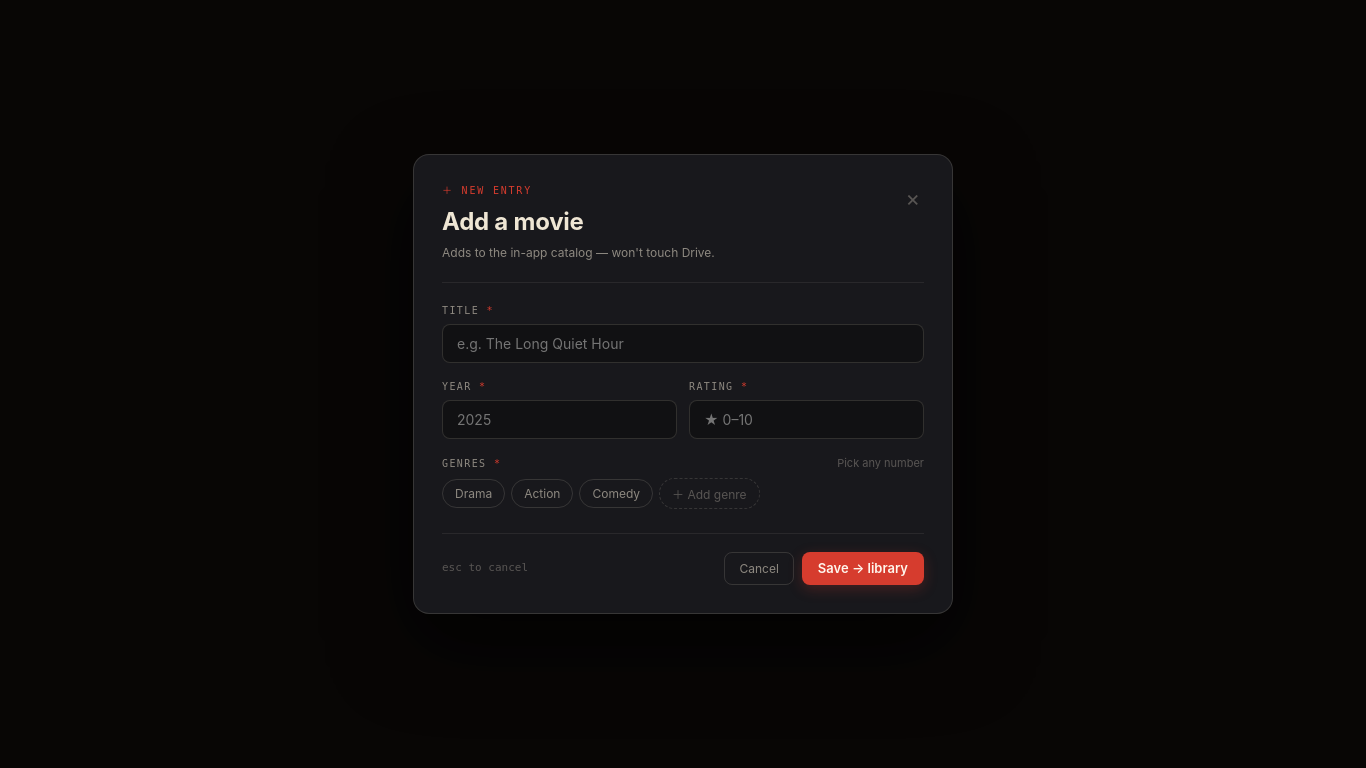
Test: AddMovieModal › clears validation errors when the modal is closed and reopened
The width and height of the screenshot is (1366, 768).
Step 1. Click the button "Save → library" → (863, 568), box [802, 552, 924, 585]
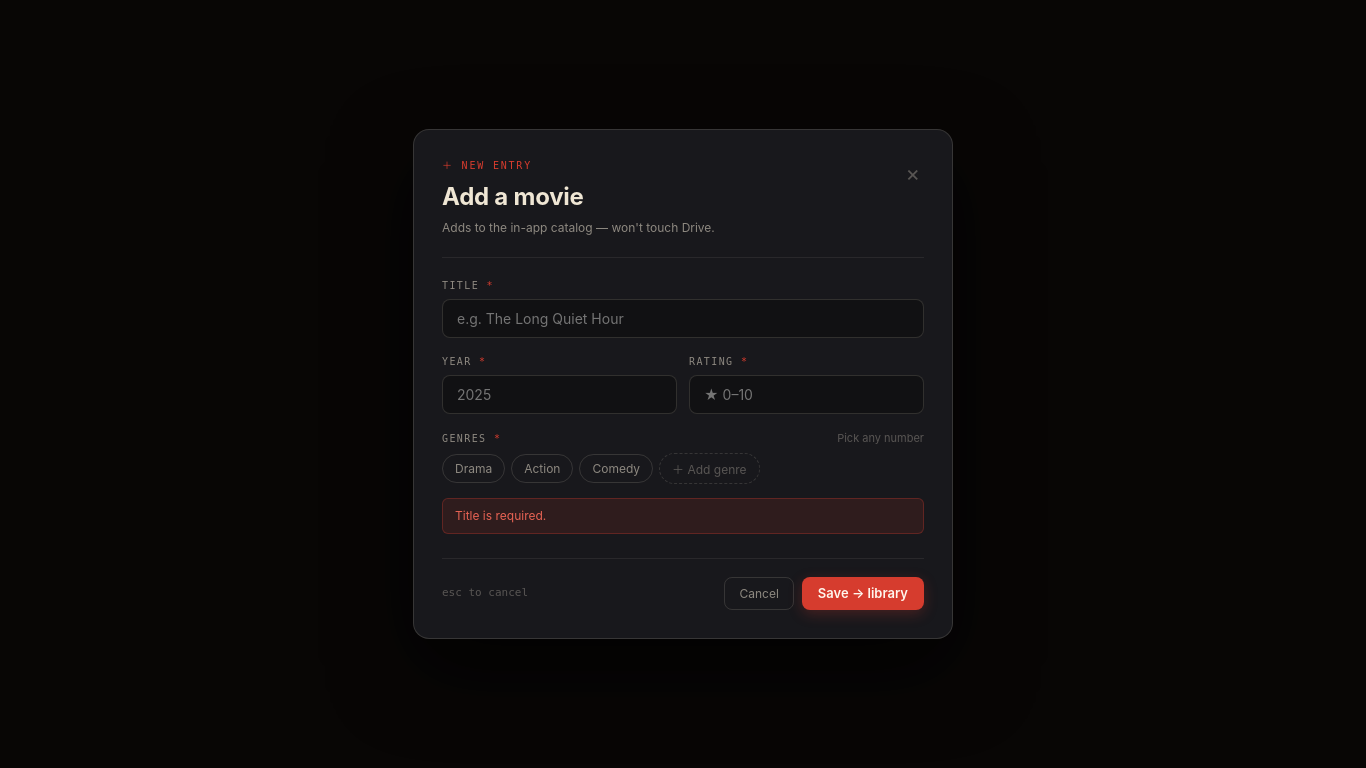
Expected: the text "Title is required." is shown, [442, 498, 924, 534]
